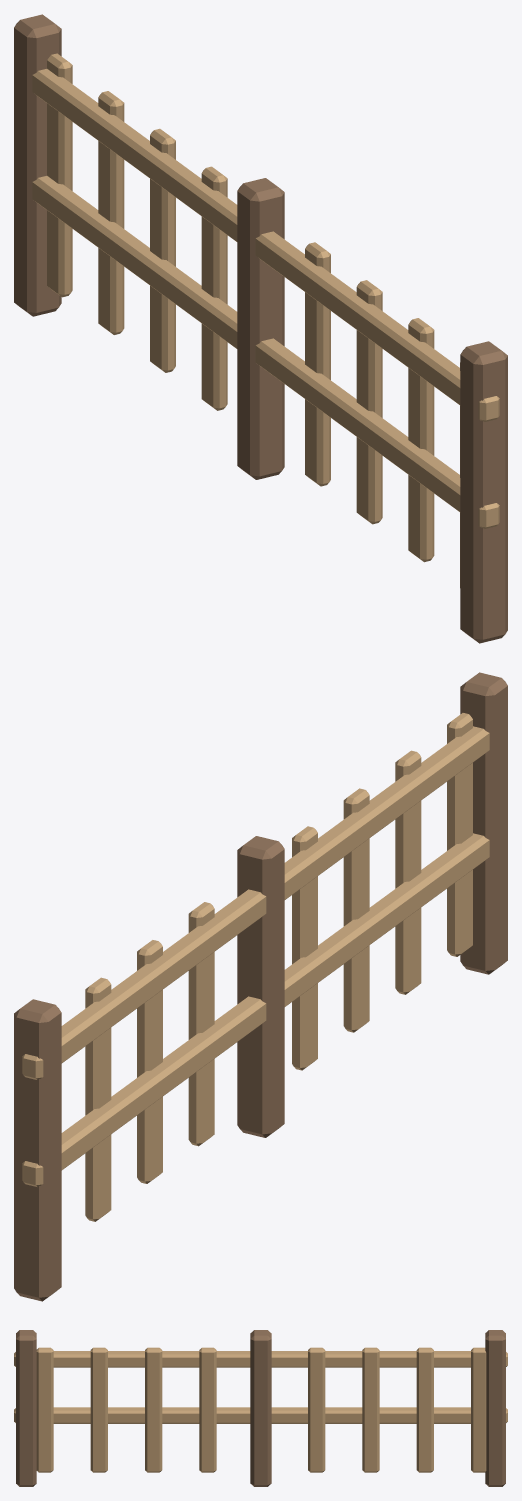
The model's file is town_fence_run.glb.
3 views of the same model, one above another, from view 1: azimuth 30°, elevation 25°; view 2: azimuth 150°, elevation 25°; view 3: azimuth 270°, elevation 25° (orthographic). The views are drawn at different scales.
Visible parts, largest first — view 1: world; view 2: world; view 3: world.
Boxes of the visible parts, bbox=[...] form: world: bbox=[14, 14, 507, 643]; world: bbox=[14, 672, 507, 1301]; world: bbox=[14, 1330, 507, 1486].
Size of the model in its own units: 0.0851 by 0.6749 by 2.
